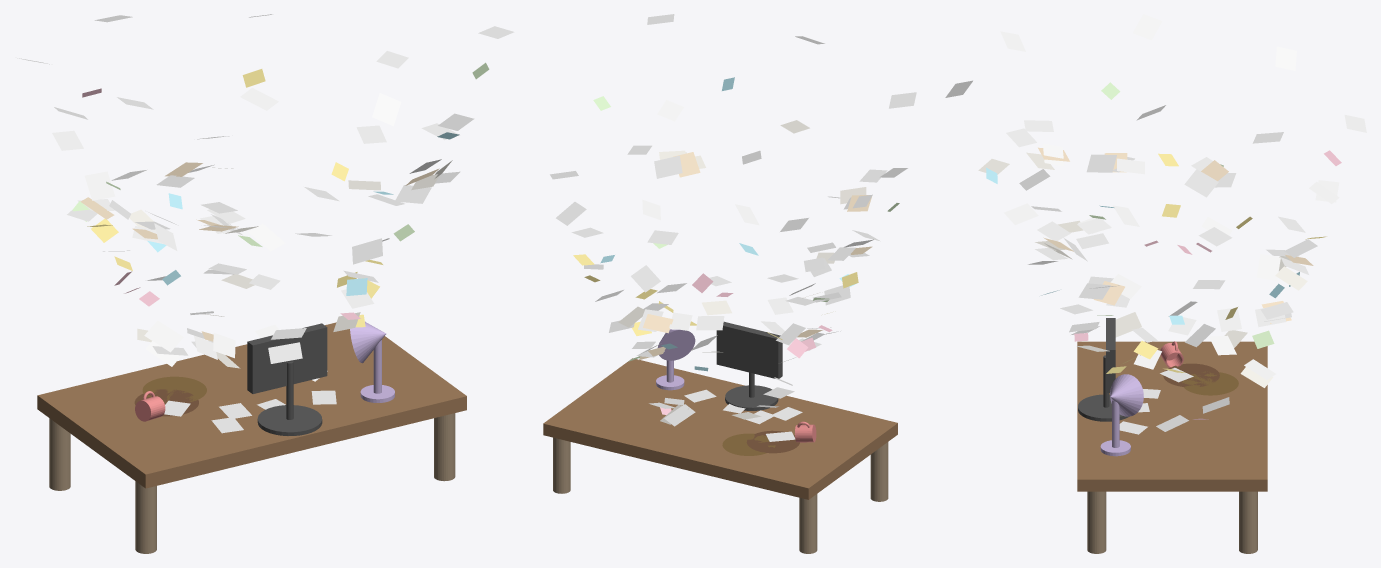
Rendered from desk.glb.
The picture shows the model from 3 angles, left to right: view 1: azimuth 30°, elevation 25°; view 2: azimuth 150°, elevation 25°; view 3: azimuth 270°, elevation 25°; orthographic projection. The views are drawn at different scales.
Parts seen in each view (by area): view 1: Office_Desk, Monitor, Monitor_Base.001, Desk_Leg_-0.8_-0.4, Desk_Leg_0.8_-0.4, Desk_Leg_-0.8_0.4, Coffee_Spill.001, Lamp_Head, Flying_Paper_5, Coffee_Spill, Flying_Paper_22.001, Flying_Paper_24 (+1 smaller); view 2: Office_Desk, Monitor, Desk_Leg_-0.8_0.4, Desk_Leg_-0.8_-0.4, Monitor_Base.001, Desk_Leg_0.8_0.4, Lamp_Head, Coffee_Spill.001, Coffee_Spill, Folder_7_Paper_4; view 3: Office_Desk, Desk_Leg_0.8_-0.4, Desk_Leg_0.8_0.4, Lamp_Head, Coffee_Spill.001, Monitor_Base.001, Coffee_Spill, Monitor, Folder_3_Paper_1, Folder_2_Paper_2.001.
Boxes of the visible parts, box(x1,y1,x2,y2) form: Office_Desk: box(37, 322, 466, 488); Monitor: box(247, 323, 327, 393); Monitor_Base.001: box(257, 405, 322, 435); Desk_Leg_-0.8_-0.4: box(135, 481, 156, 553); Desk_Leg_0.8_-0.4: box(434, 413, 455, 481); Desk_Leg_-0.8_0.4: box(49, 418, 70, 490); Coffee_Spill.001: box(142, 376, 206, 403); Lamp_Head: box(350, 322, 386, 363); Flying_Paper_5: box(144, 320, 183, 352); Coffee_Spill: box(134, 389, 198, 416); Flying_Paper_22.001: box(84, 171, 115, 200); Flying_Paper_24: box(372, 93, 401, 126); Office_Desk: box(543, 358, 897, 499); Monitor: box(716, 321, 782, 378); Desk_Leg_-0.8_0.4: box(799, 494, 817, 553); Desk_Leg_-0.8_-0.4: box(870, 442, 888, 501); Monitor_Base.001: box(725, 385, 778, 410); Desk_Leg_0.8_0.4: box(553, 437, 570, 493); Lamp_Head: box(657, 329, 695, 360); Coffee_Spill.001: box(722, 433, 775, 455); Coffee_Spill: box(746, 430, 799, 453); Folder_7_Paper_4: box(654, 155, 682, 178); Office_Desk: box(1077, 341, 1267, 491); Desk_Leg_0.8_-0.4: box(1087, 491, 1106, 553); Desk_Leg_0.8_0.4: box(1239, 491, 1257, 553); Lamp_Head: box(1110, 374, 1143, 416); Coffee_Spill.001: box(1182, 371, 1238, 395); Monitor_Base.001: box(1078, 394, 1128, 421); Coffee_Spill: box(1163, 363, 1219, 386); Monitor: box(1106, 318, 1115, 392); Folder_3_Paper_1: box(1184, 169, 1218, 197); Folder_2_Paper_2.001: box(1256, 254, 1280, 280).
Size of what is drawn, in the model's own units: 2.17 by 2.44 by 2.23.
